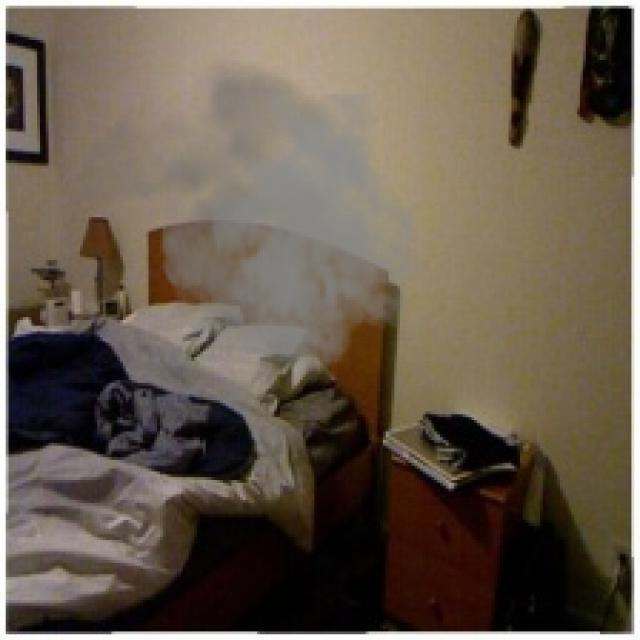Smoke: (66, 52, 428, 394)
